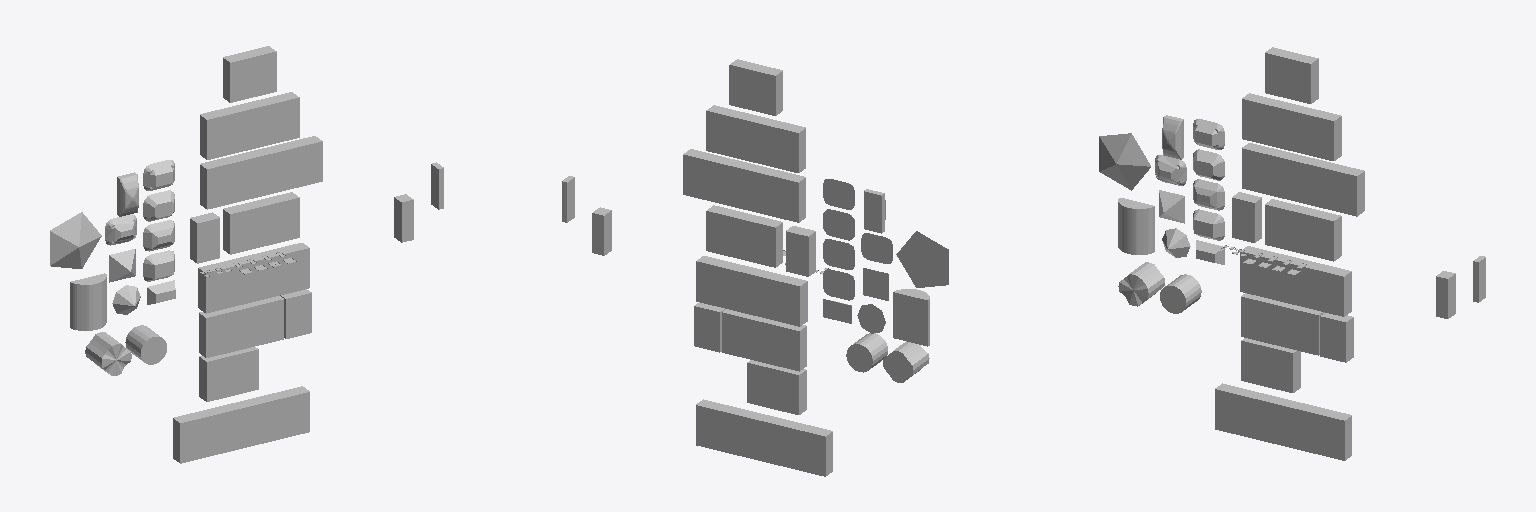
Rendered from Assets all 01.obj.
3 renders of one model, left to right at view 1: azimuth 30°, elevation 25°; view 2: azimuth 150°, elevation 25°; view 3: azimuth 330°, elevation 25°, orthographic.
Visible parts, largest first — view 1: Vorlage Hauswand_05_1 Stock_01 Hauswaende Hauswand_05_05, Vorlage Stock_01 Hauswaende Hauswand_04_1 Hauswand_04_05, Vorlage Hauswand_05_04 Hauswand_05_1 Stock_01 Hauswaende, Vorlage Stock_01 Hauswaende Hauswand_04_04 Hauswand_04_1, Vorlage Hauswand_05_1 Stock_01 Hauswaende Hauswand_05_03, Vorlage Stock_01 Hauswaende Hauswand_04_1 Hauswand_04_03, Vorlage Hauswand_05_1 Stock_01 Hauswaende Hauswand_05_02, Vorlage Stock_01 Hauswaende Hauswand_04_1 Hauswand_04_02, Daecher2 Vorlage Fuenf_Seitig1, Daecher2 Vorlage Wuerfel_4_mal_1_02_23, Vorlage Stock_01 Hauswaende Hauswand_04_1 Hauswand_04_01, Vorlage Wasser Wassersaeule_speziell (+13 smaller); view 2: Vorlage Hauswand_05_1 Stock_01 Hauswaende Hauswand_05_05, Vorlage Stock_01 Hauswaende Hauswand_04_1 Hauswand_04_05, Vorlage Hauswand_05_04 Hauswand_05_1 Stock_01 Hauswaende, Vorlage Stock_01 Hauswaende Hauswand_04_04 Hauswand_04_1, Vorlage Hauswand_05_1 Stock_01 Hauswaende Hauswand_05_03, Vorlage Stock_01 Hauswaende Hauswand_04_1 Hauswand_04_03, Vorlage Hauswand_05_1 Stock_01 Hauswaende Hauswand_05_02, Vorlage Stock_01 Hauswaende Hauswand_04_1 Hauswand_04_02, Daecher2 Vorlage Fuenf_Seitig1, Daecher2 Vorlage Wuerfel_4_mal_1_02_23, Vorlage Stock_01 Hauswaende Hauswand_04_1 Hauswand_04_01, Vorlage Hauswand_05_1 Stock_01 Hauswaende Hauswand_05_01 (+13 smaller); view 3: Vorlage Hauswand_05_1 Stock_01 Hauswaende Hauswand_05_05, Vorlage Stock_01 Hauswaende Hauswand_04_1 Hauswand_04_05, Vorlage Hauswand_05_04 Hauswand_05_1 Stock_01 Hauswaende, Vorlage Stock_01 Hauswaende Hauswand_04_04 Hauswand_04_1, Vorlage Stock_01 Hauswaende Hauswand_04_1 Hauswand_04_03, Vorlage Hauswand_05_1 Stock_01 Hauswaende Hauswand_05_03, Vorlage Hauswand_05_1 Stock_01 Hauswaende Hauswand_05_02, Vorlage Stock_01 Hauswaende Hauswand_04_1 Hauswand_04_02, Daecher2 Vorlage Fuenf_Seitig1, Daecher2 Vorlage Wuerfel_4_mal_1_02_23, Vorlage Hauswand_05_1 Stock_01 Hauswaende Hauswand_05_01, Vorlage Stock_01 Hauswaende Hauswand_04_1 Hauswand_04_01 (+13 smaller).
Boxes of the visible parts, box(x1,y1,x2,y2) form: Vorlage Hauswand_05_1 Stock_01 Hauswaende Hauswand_05_05: box(173, 386, 309, 463); Vorlage Stock_01 Hauswaende Hauswand_04_1 Hauswand_04_05: box(200, 136, 322, 209); Vorlage Hauswand_05_04 Hauswand_05_1 Stock_01 Hauswaende: box(198, 243, 309, 313); Vorlage Stock_01 Hauswaende Hauswand_04_04 Hauswand_04_1: box(200, 92, 299, 159); Vorlage Hauswand_05_1 Stock_01 Hauswaende Hauswand_05_03: box(199, 296, 283, 357); Vorlage Stock_01 Hauswaende Hauswand_04_1 Hauswand_04_03: box(223, 192, 299, 254); Vorlage Hauswand_05_1 Stock_01 Hauswaende Hauswand_05_02: box(199, 347, 258, 401); Vorlage Stock_01 Hauswaende Hauswand_04_1 Hauswand_04_02: box(223, 46, 276, 102); Daecher2 Vorlage Fuenf_Seitig1: box(50, 212, 101, 268); Daecher2 Vorlage Wuerfel_4_mal_1_02_23: box(70, 273, 106, 330); Vorlage Stock_01 Hauswaende Hauswand_04_1 Hauswand_04_01: box(190, 212, 219, 263); Vorlage Wasser Wassersaeule_speziell: box(85, 332, 131, 375); Vorlage Hauswand_05_1 Stock_01 Hauswaende Hauswand_05_05: box(696, 399, 832, 476); Vorlage Stock_01 Hauswaende Hauswand_04_1 Hauswand_04_05: box(683, 149, 805, 222); Vorlage Hauswand_05_04 Hauswand_05_1 Stock_01 Hauswaende: box(696, 256, 807, 326); Vorlage Stock_01 Hauswaende Hauswand_04_04 Hauswand_04_1: box(706, 105, 805, 172); Vorlage Hauswand_05_1 Stock_01 Hauswaende Hauswand_05_03: box(722, 309, 806, 371); Vorlage Stock_01 Hauswaende Hauswand_04_1 Hauswand_04_03: box(706, 205, 782, 267); Vorlage Hauswand_05_1 Stock_01 Hauswaende Hauswand_05_02: box(747, 360, 806, 414); Vorlage Stock_01 Hauswaende Hauswand_04_1 Hauswand_04_02: box(729, 59, 782, 115); Daecher2 Vorlage Fuenf_Seitig1: box(896, 231, 948, 287); Daecher2 Vorlage Wuerfel_4_mal_1_02_23: box(893, 289, 929, 346); Vorlage Stock_01 Hauswaende Hauswand_04_1 Hauswand_04_01: box(786, 226, 815, 276); Vorlage Hauswand_05_1 Stock_01 Hauswaende Hauswand_05_01: box(694, 302, 724, 352); Vorlage Hauswand_05_1 Stock_01 Hauswaende Hauswand_05_05: box(1215, 383, 1351, 460); Vorlage Stock_01 Hauswaende Hauswand_04_1 Hauswand_04_05: box(1242, 143, 1364, 216); Vorlage Hauswand_05_04 Hauswand_05_1 Stock_01 Hauswaende: box(1240, 246, 1351, 316); Vorlage Stock_01 Hauswaende Hauswand_04_04 Hauswand_04_1: box(1242, 93, 1341, 160); Vorlage Stock_01 Hauswaende Hauswand_04_1 Hauswand_04_03: box(1265, 199, 1341, 261); Vorlage Hauswand_05_1 Stock_01 Hauswaende Hauswand_05_03: box(1241, 293, 1324, 355); Vorlage Hauswand_05_1 Stock_01 Hauswaende Hauswand_05_02: box(1241, 338, 1300, 392); Vorlage Stock_01 Hauswaende Hauswand_04_1 Hauswand_04_02: box(1265, 47, 1318, 103); Daecher2 Vorlage Fuenf_Seitig1: box(1099, 133, 1150, 190); Daecher2 Vorlage Wuerfel_4_mal_1_02_23: box(1118, 198, 1154, 254); Vorlage Hauswand_05_1 Stock_01 Hauswaende Hauswand_05_01: box(1320, 313, 1353, 362); Vorlage Stock_01 Hauswaende Hauswand_04_1 Hauswand_04_01: box(1232, 192, 1261, 242).
Size of the model in its own units: 80.32 by 77.08 by 9.24.